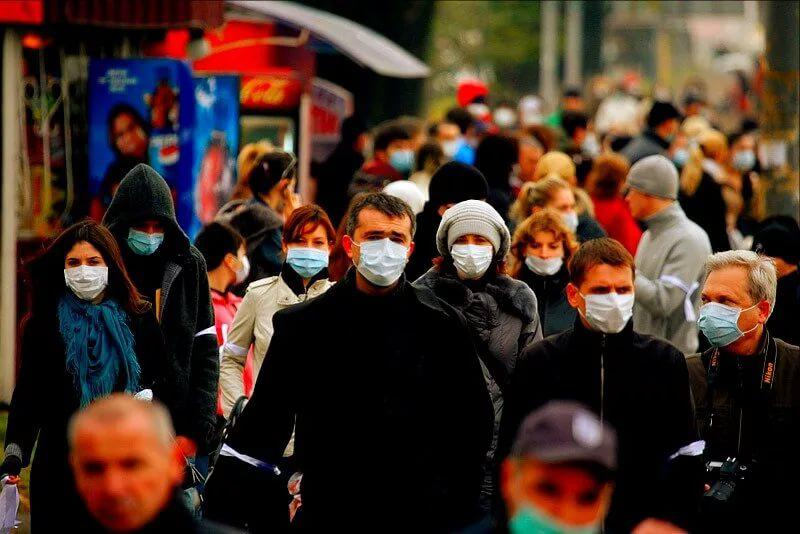mask: (697, 261, 756, 347), (355, 208, 411, 284), (583, 262, 634, 331), (446, 217, 498, 276), (283, 218, 334, 276), (65, 240, 109, 298), (123, 204, 167, 262), (542, 191, 580, 236), (223, 237, 253, 285)
poor: (524, 225, 566, 276)
